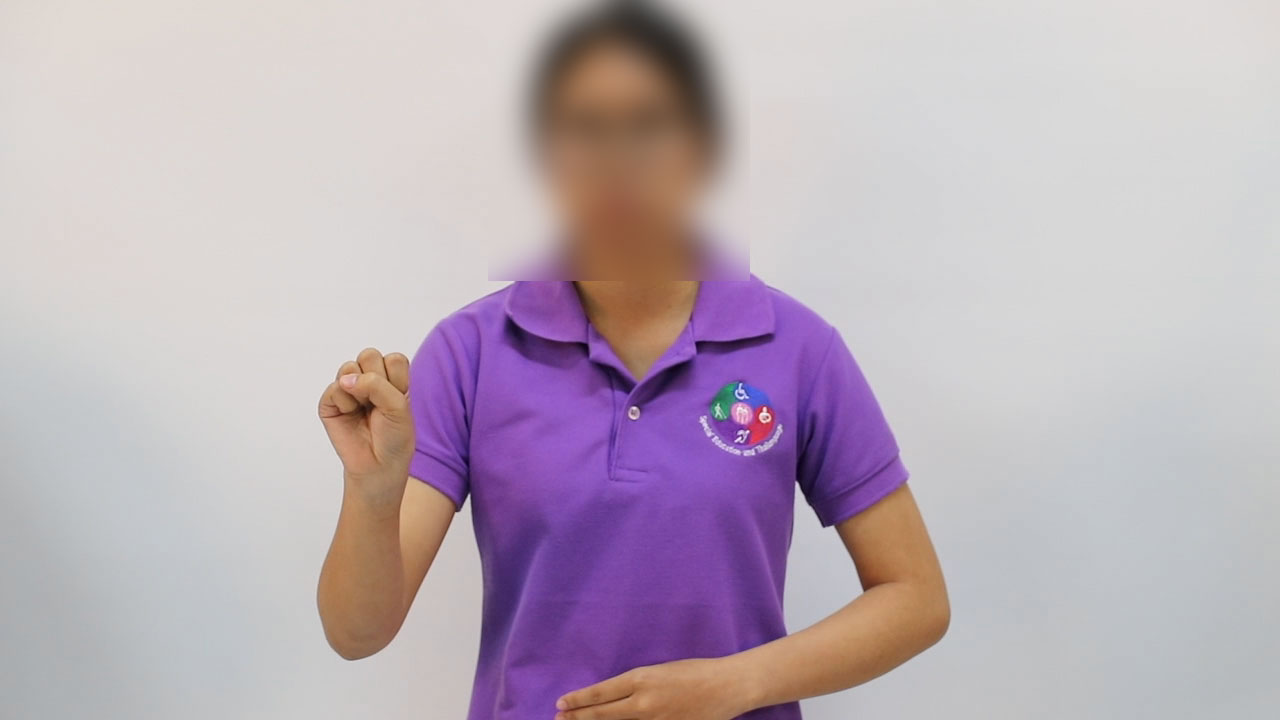sor: (307, 330, 444, 500)
